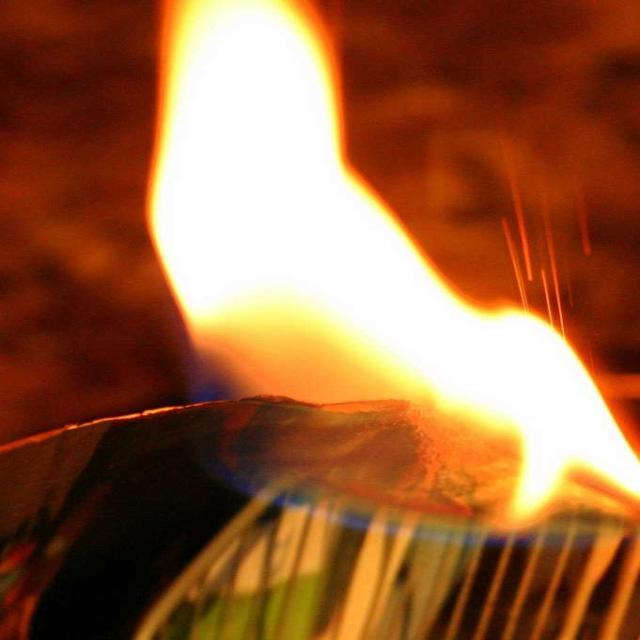Fire: (154, 2, 629, 515)
